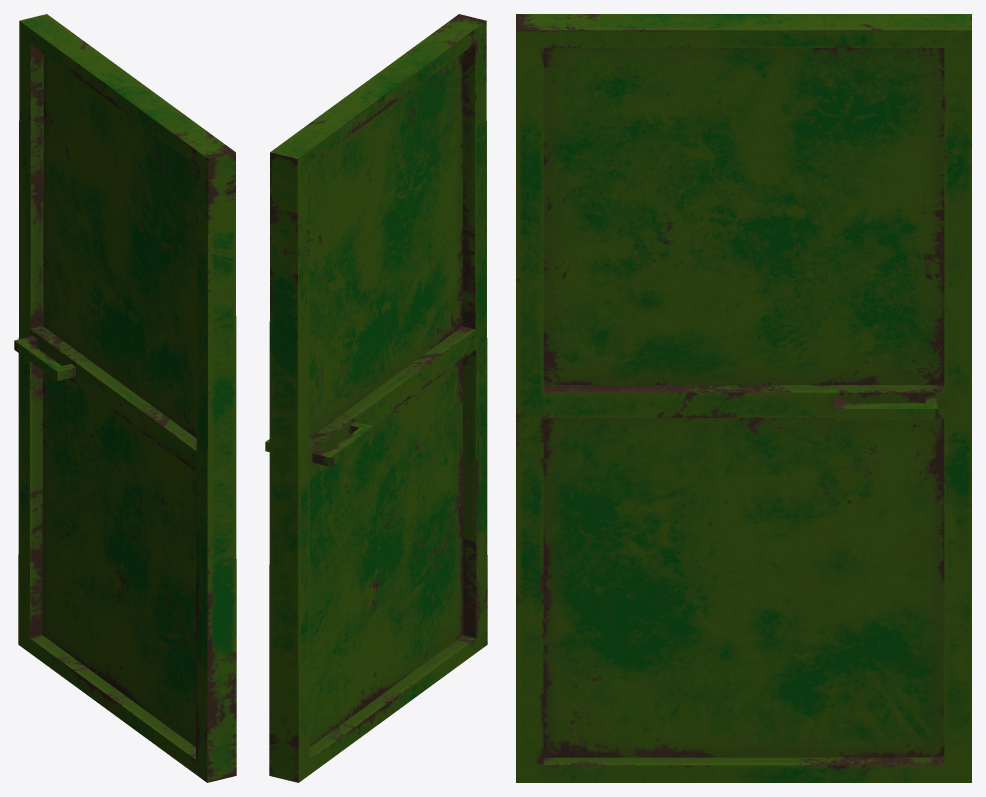
3 views of the same model, side by side, from view 1: azimuth 30°, elevation 25°; view 2: azimuth 150°, elevation 25°; view 3: azimuth 270°, elevation 25° (orthographic). The views are drawn at different scales.
Parts seen in each view (by area): view 1: objPlane00; view 2: objPlane00; view 3: objPlane00.
Part boxes in pixels (x1,y1,x2,y2): objPlane00: (14,14,236,782); objPlane00: (265,14,487,782); objPlane00: (516,14,971,782).
Size of the model in its own units: 3.84 by 34.75 by 19.08.
Materials: 1 (1 with a texture image).
